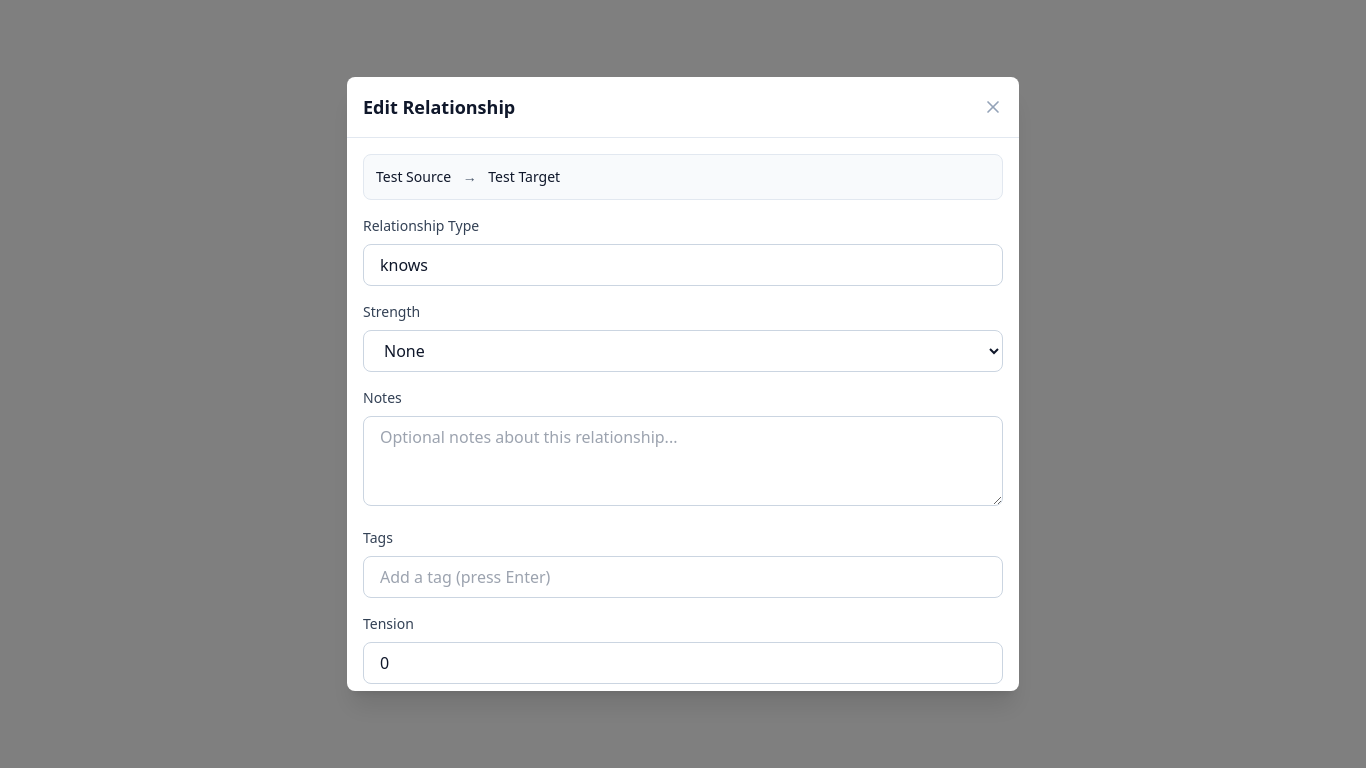
Test: EditRelationshipModal - Form Validation › should require relationship type to be non-empty
The width and height of the screenshot is (1366, 768).
Step 1. Clear the field labelled "Relationship Type" → (683, 265), box [363, 244, 1003, 286]
(page scrolled)
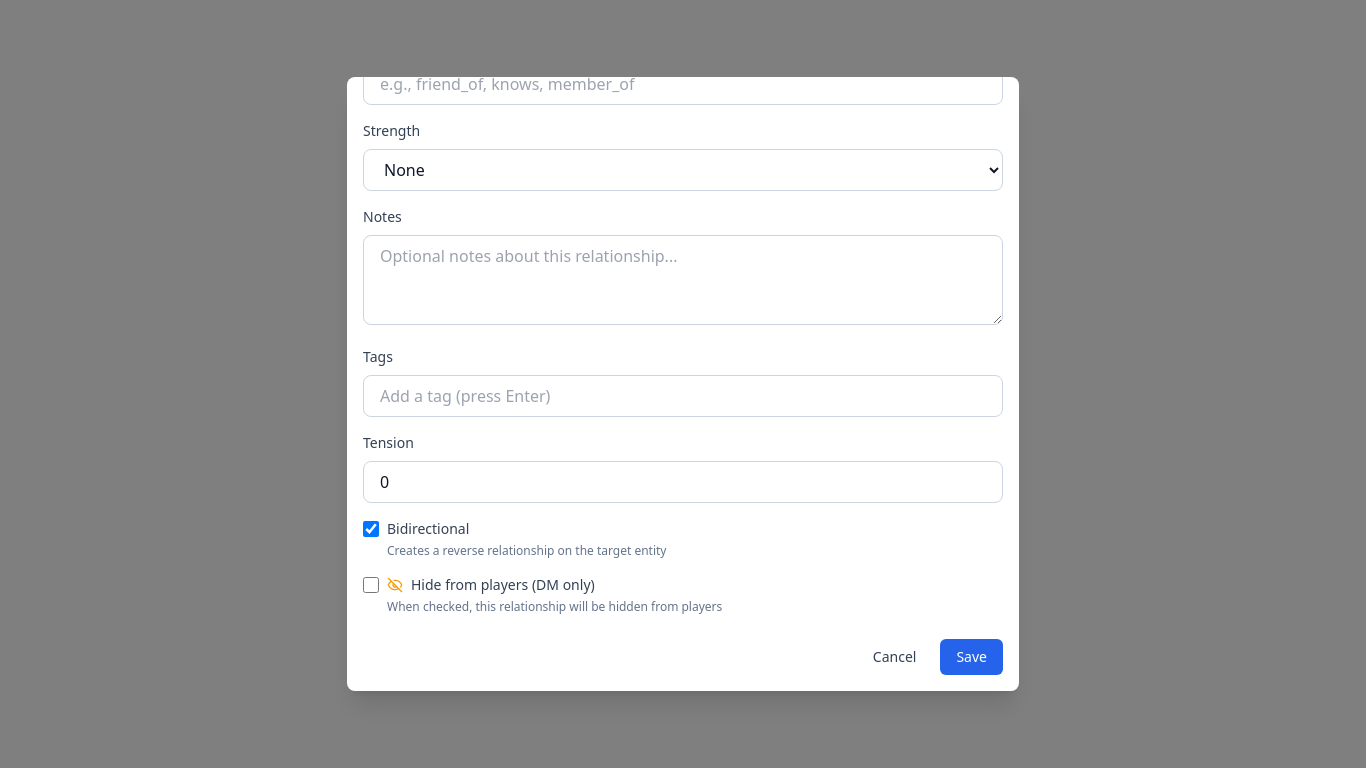
Step 2. Click the button "Save" → (972, 657), box [940, 639, 1003, 675]
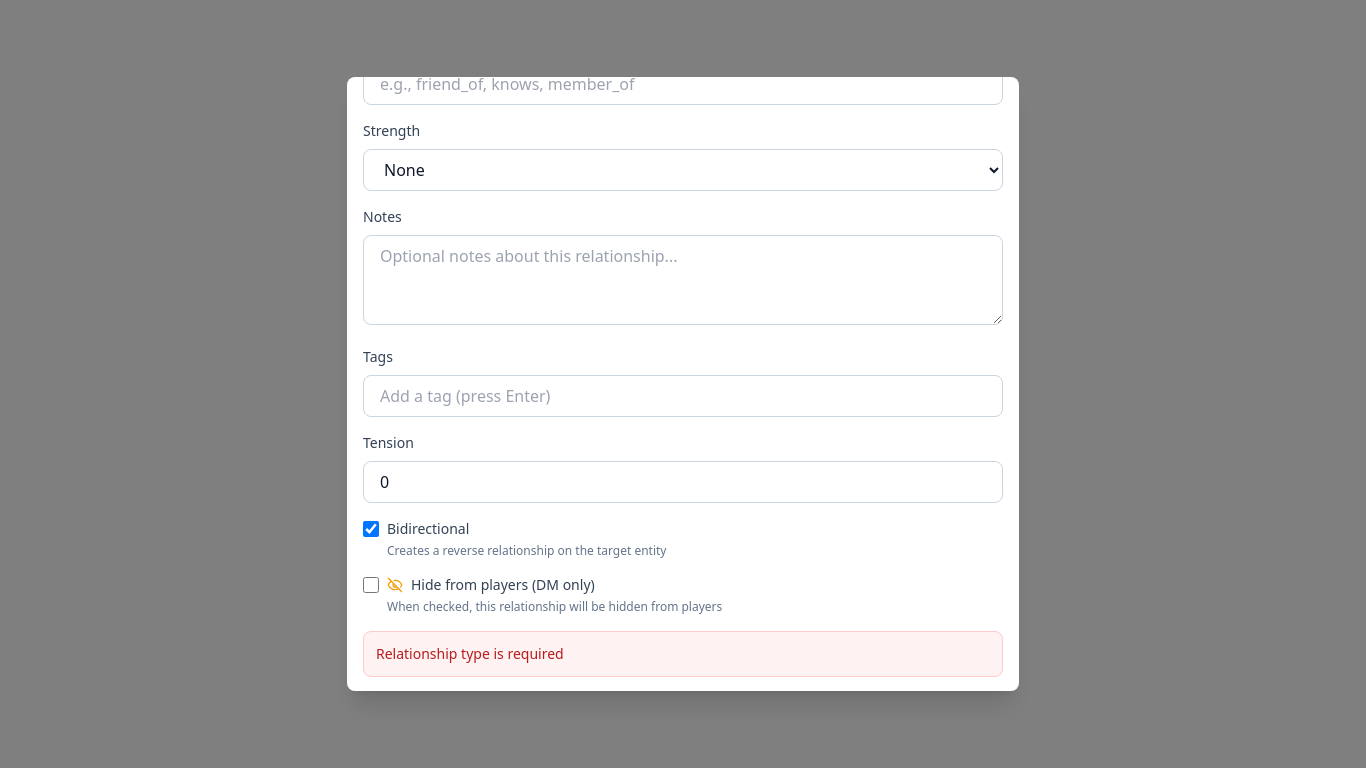
Check: the text "Relationship type is required" is shown, box [363, 631, 1003, 677]
